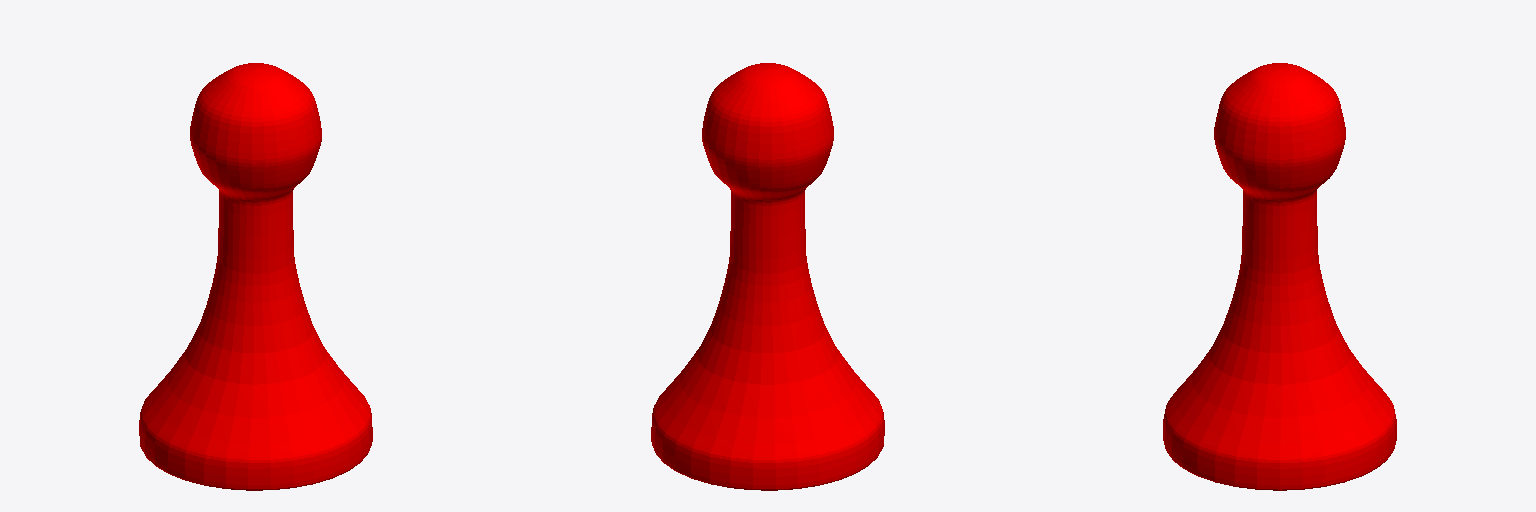
Rendered from red_figure.obj.
The picture shows the model from 3 angles: view 1: azimuth 30°, elevation 25°; view 2: azimuth 150°, elevation 25°; view 3: azimuth 270°, elevation 25°; orthographic projection.
Visible parts, largest first — view 1: Cube; view 2: Cube; view 3: Cube.
Part boxes in pixels (x1,y1,x2,y2): Cube: (139, 63, 372, 490); Cube: (651, 63, 884, 490); Cube: (1163, 63, 1396, 490).
Bounding box in the file's own units: 2.56 × 4.51 × 2.56.